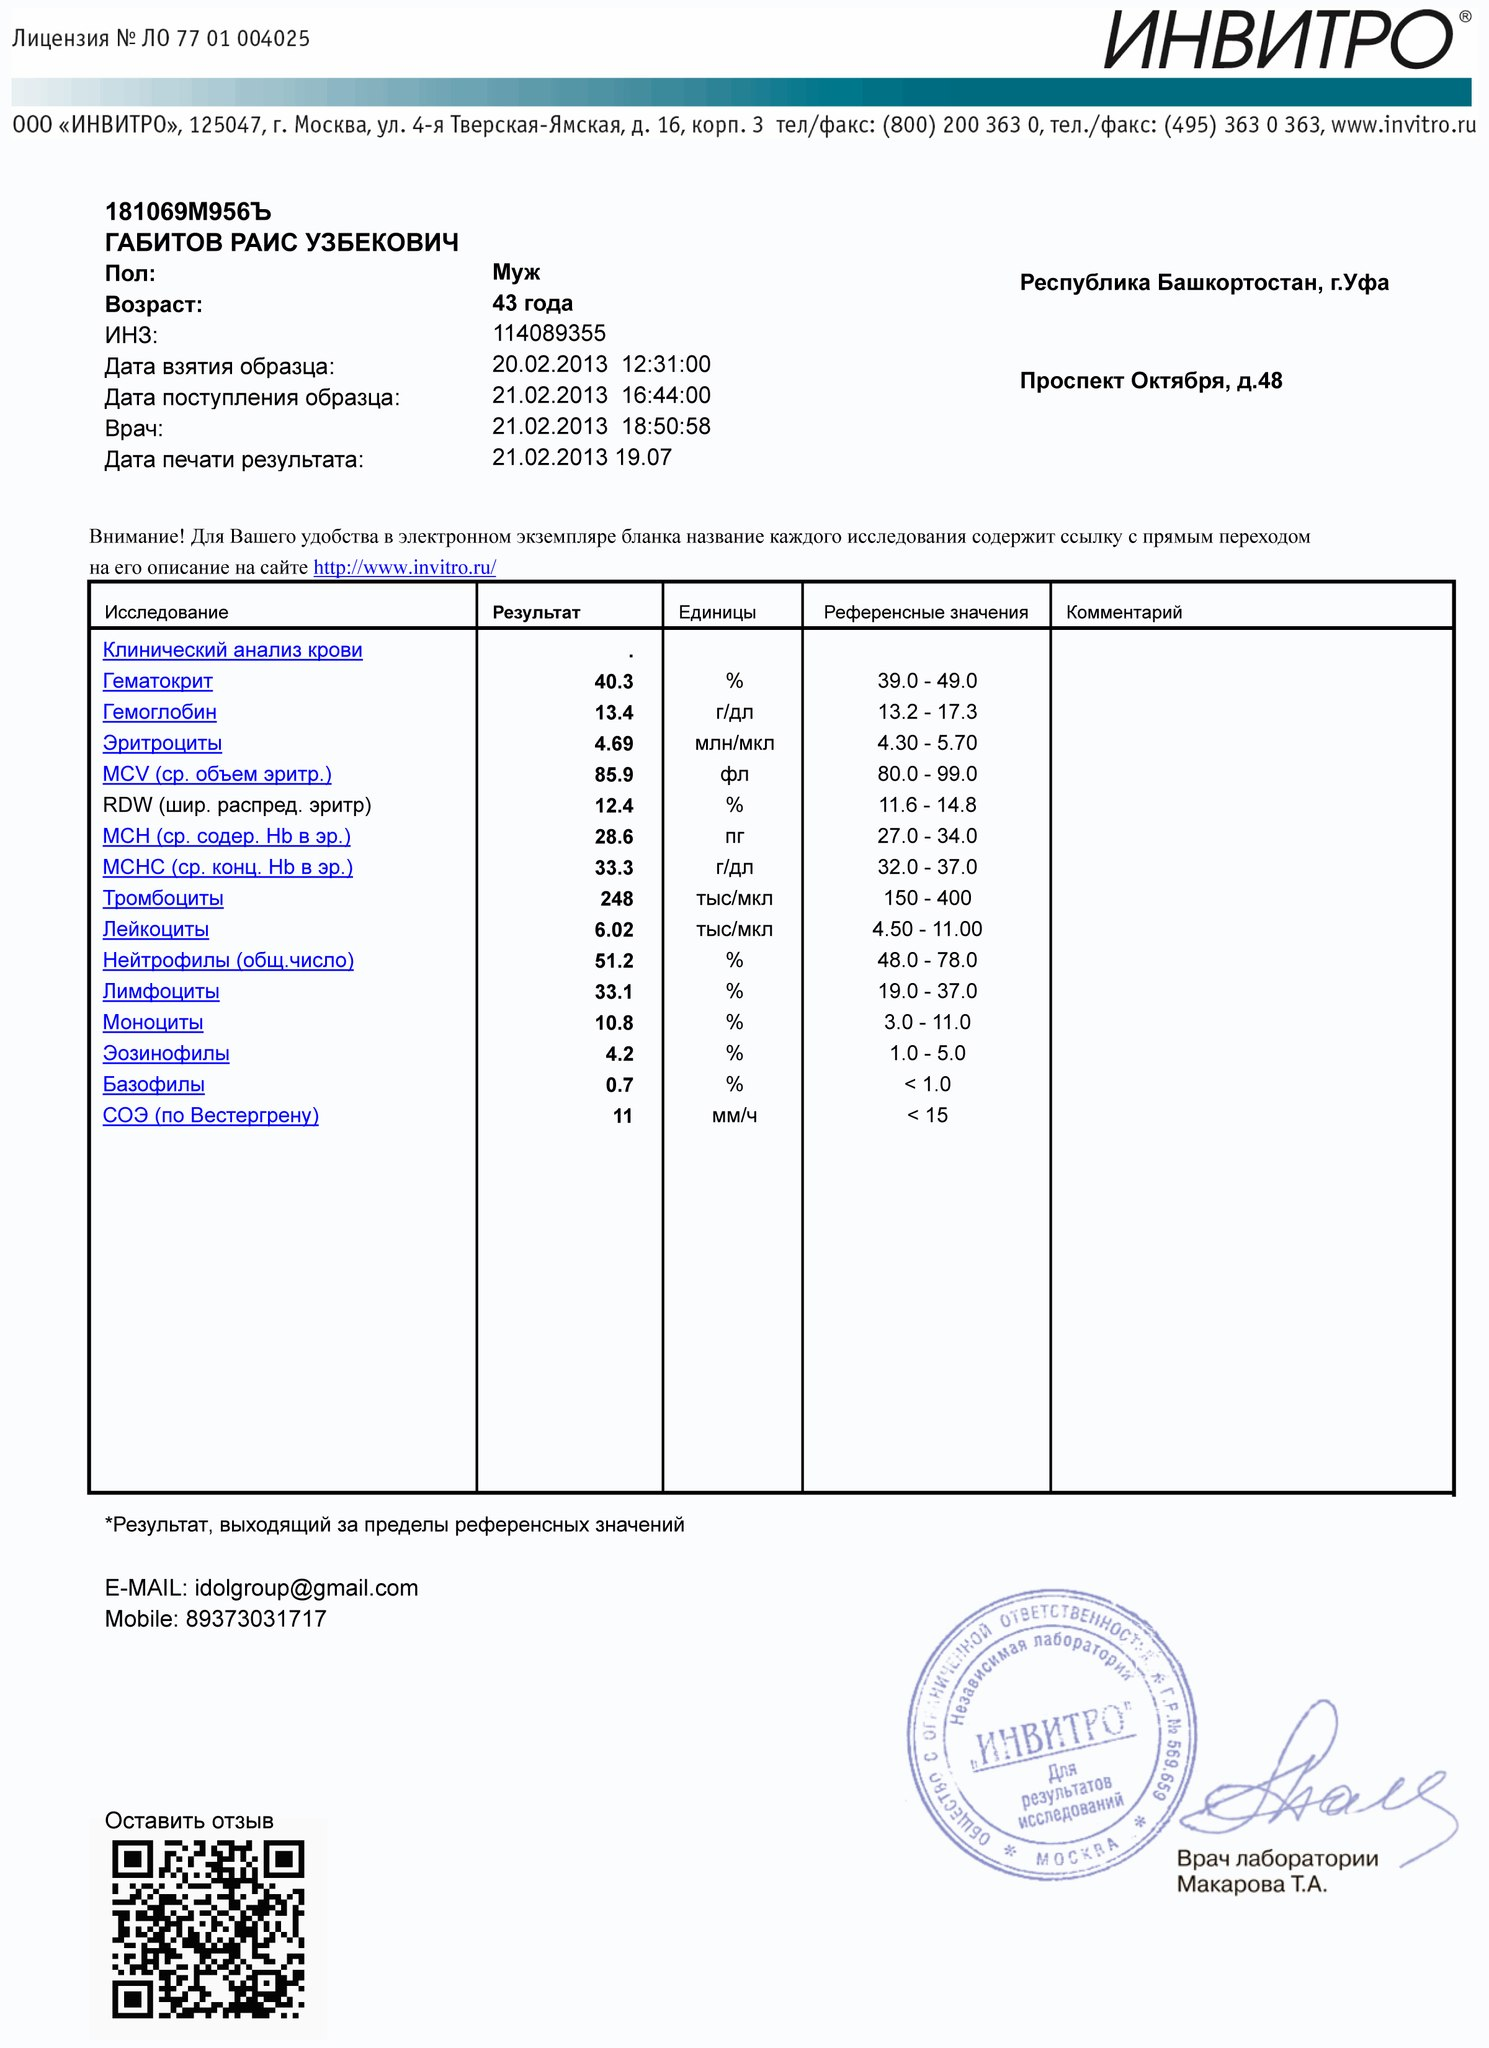column: (100, 580, 374, 1491), (821, 580, 1031, 1491), (488, 580, 638, 1491), (1064, 580, 1187, 1491), (678, 580, 779, 1491)
